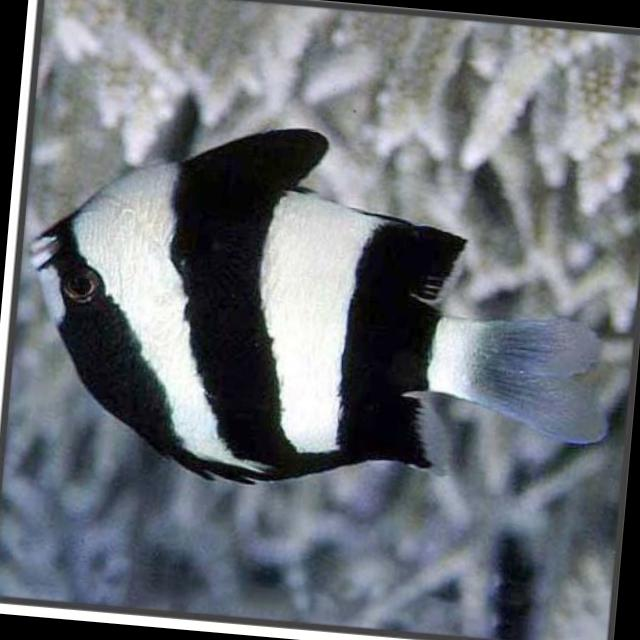ThreeStripedDamselfish: (28, 123, 606, 483)
